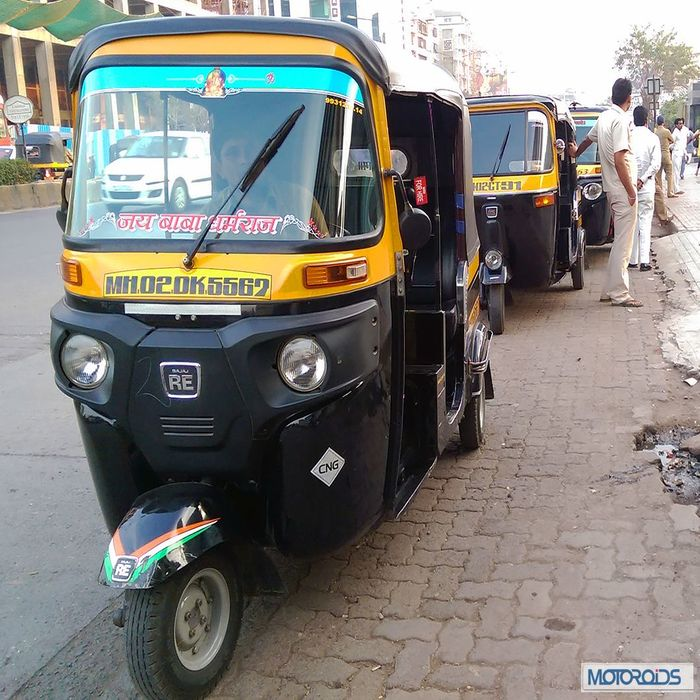n: (95, 267, 273, 304)
